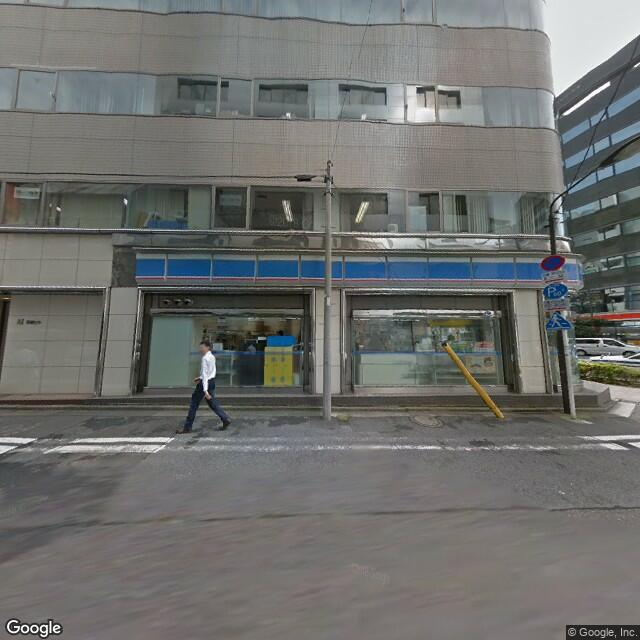lawson: (131, 239, 585, 288)
